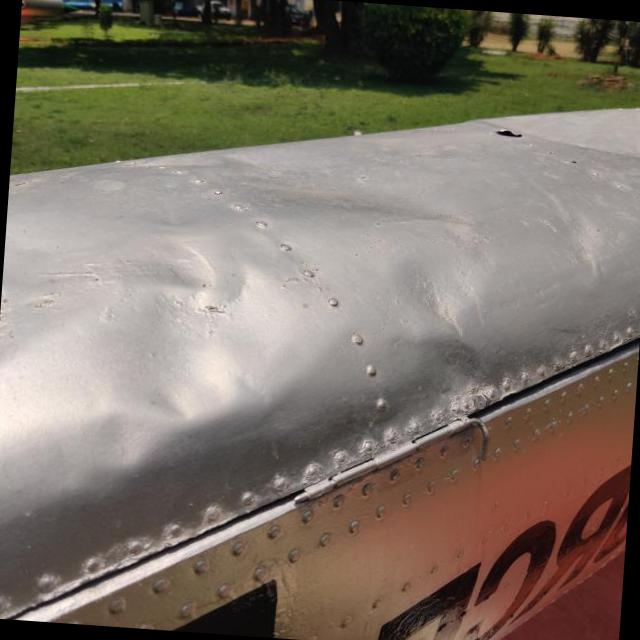Dent: (83, 221, 308, 463), (383, 231, 488, 350)
